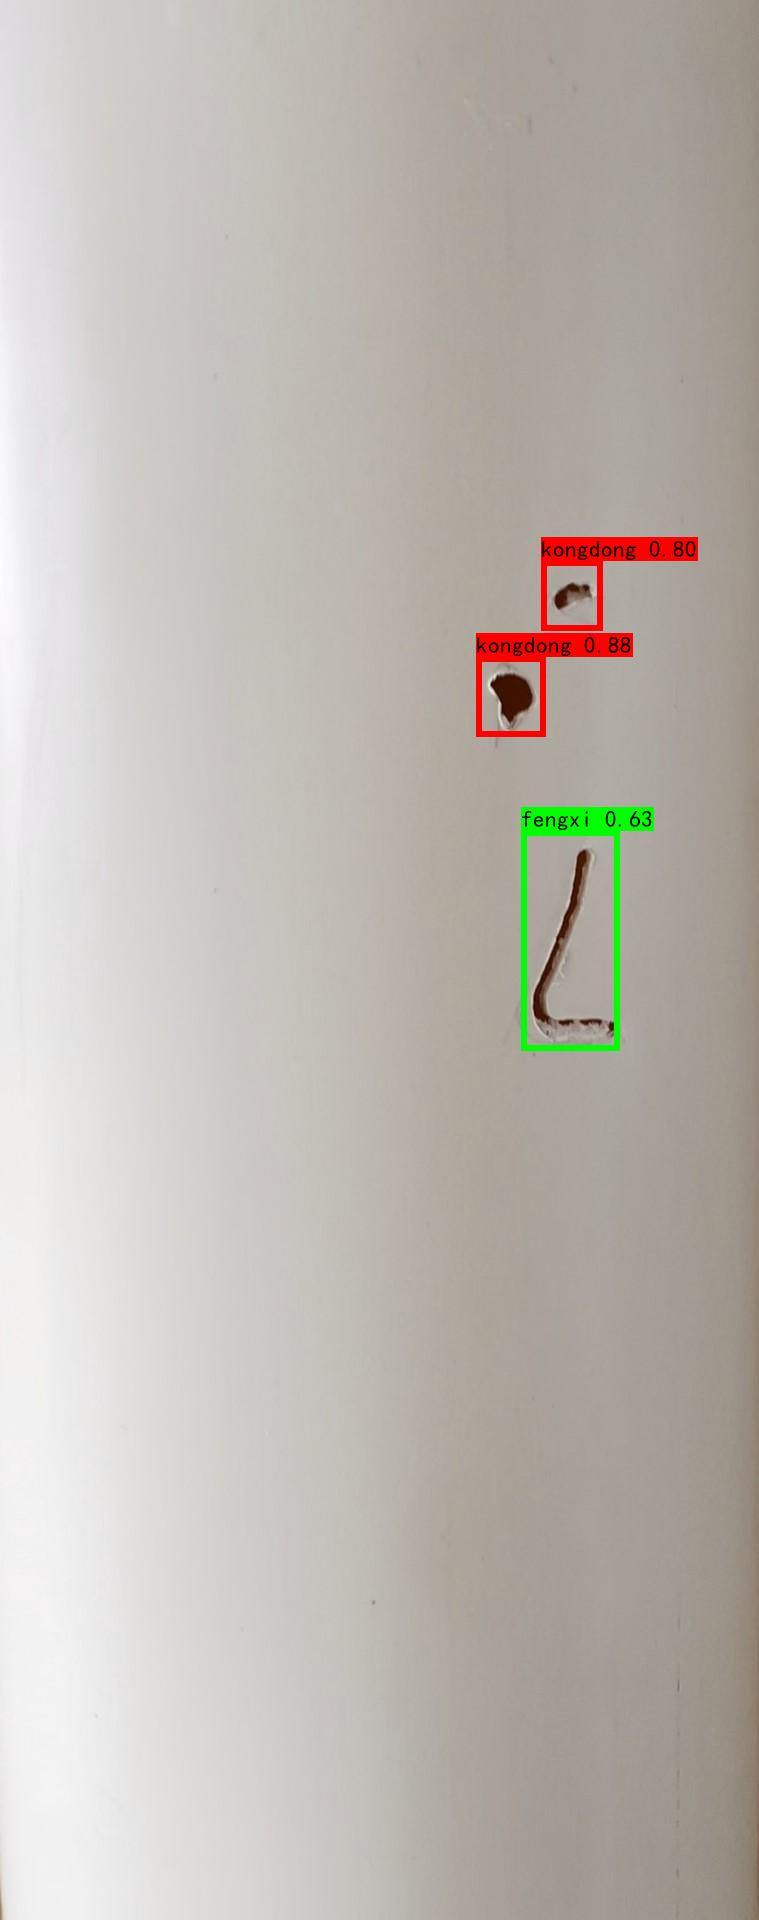fengxi: (517, 827, 637, 1047)
kongdong: (481, 654, 545, 738), (545, 564, 590, 620)
